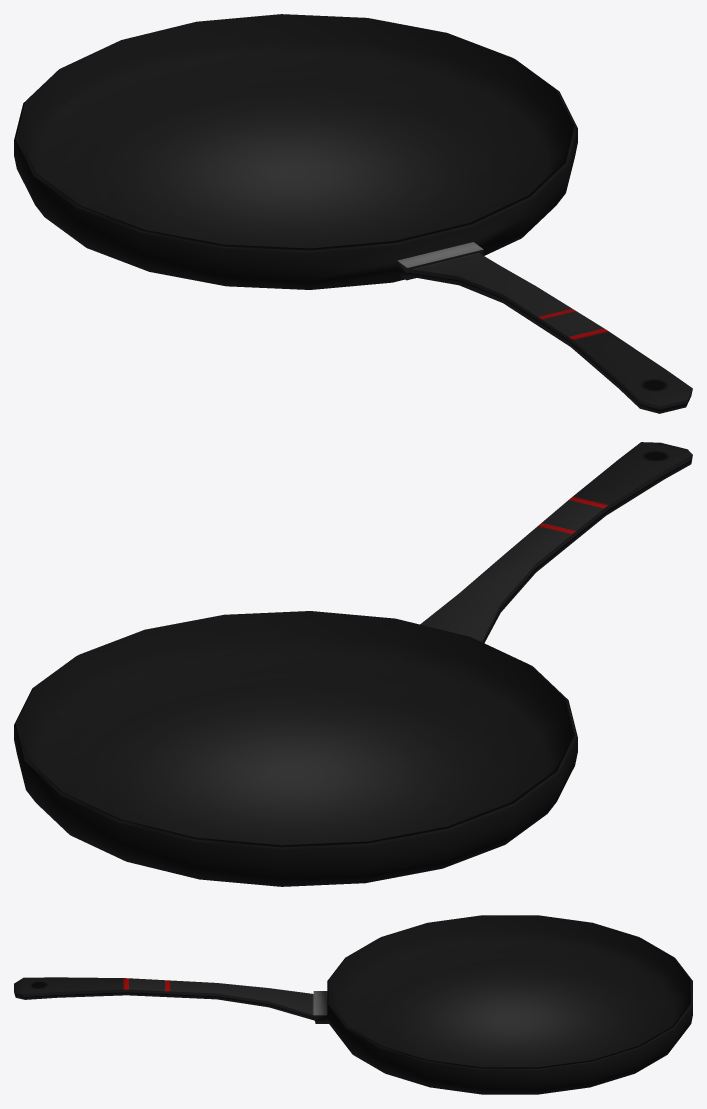
The model's file is frying_pan.fbx.
The picture shows the model from 3 angles, top to bottom: view 1: azimuth 30°, elevation 25°; view 2: azimuth 150°, elevation 25°; view 3: azimuth 270°, elevation 25°; orthographic projection. The views are drawn at different scales.
Parts seen in each view (by area): view 1: frying_pan; view 2: frying_pan; view 3: frying_pan.
Boxes of the visible parts, bbox=[...] form: frying_pan: bbox=[14, 14, 692, 413]; frying_pan: bbox=[14, 442, 692, 886]; frying_pan: bbox=[14, 915, 692, 1094].
Bounding box in the file's own units: 27.53 × 4.06 × 51.12.
